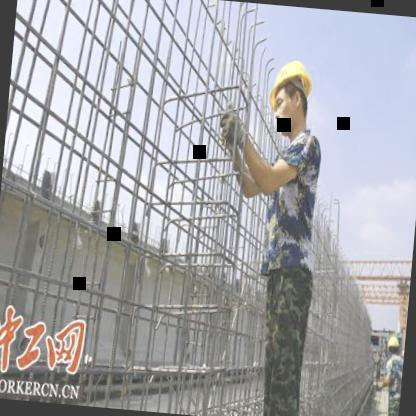helmet: (262, 48, 320, 142), (385, 332, 401, 359)
